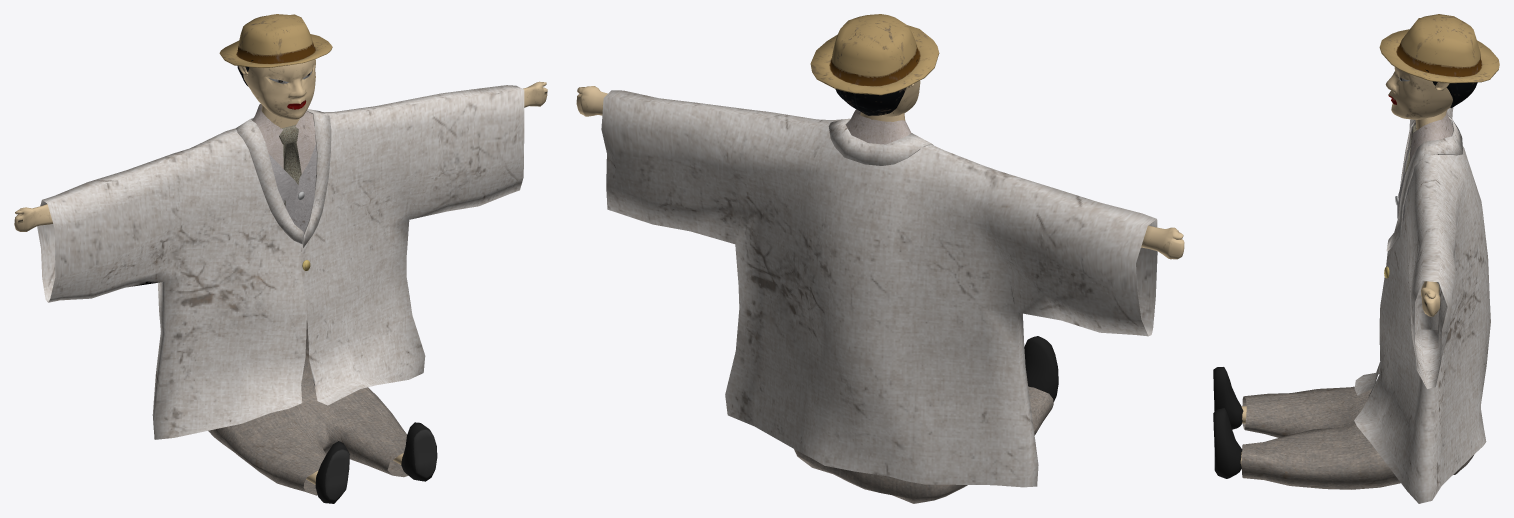
File: pupptery_dad.fbx
3 views of the same model, side by side, from view 1: azimuth 30°, elevation 25°; view 2: azimuth 150°, elevation 25°; view 3: azimuth 270°, elevation 25° (orthographic). The views are drawn at different scales.
Visible parts, largest first — view 1: puppetry_Dad; view 2: puppetry_Dad; view 3: puppetry_Dad.
Boxes of the visible parts, x1,y1,x2,y2 form: puppetry_Dad: (14, 14, 547, 503); puppetry_Dad: (576, 14, 1184, 503); puppetry_Dad: (1213, 14, 1499, 503).
Size of the model in its own units: 46.3 by 34.42 by 20.04.
